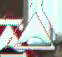Speed Breaker ahead: (2, 4, 57, 56)
